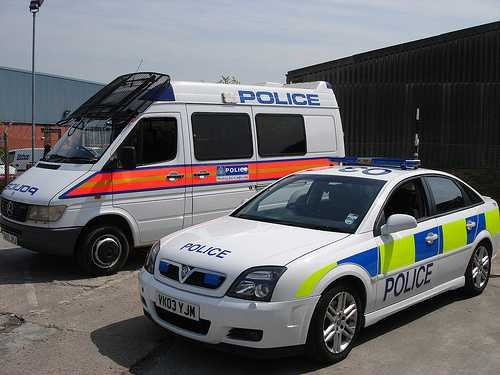Police Car: (125, 143, 500, 364)
Police Van: (1, 52, 352, 234)
